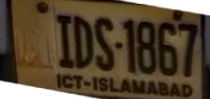1: (121, 19, 138, 76)
6: (157, 20, 178, 75)
7: (177, 20, 199, 78)
8: (136, 19, 158, 74)
D: (71, 15, 93, 70)
I: (52, 15, 74, 70)
S: (91, 15, 116, 73)
